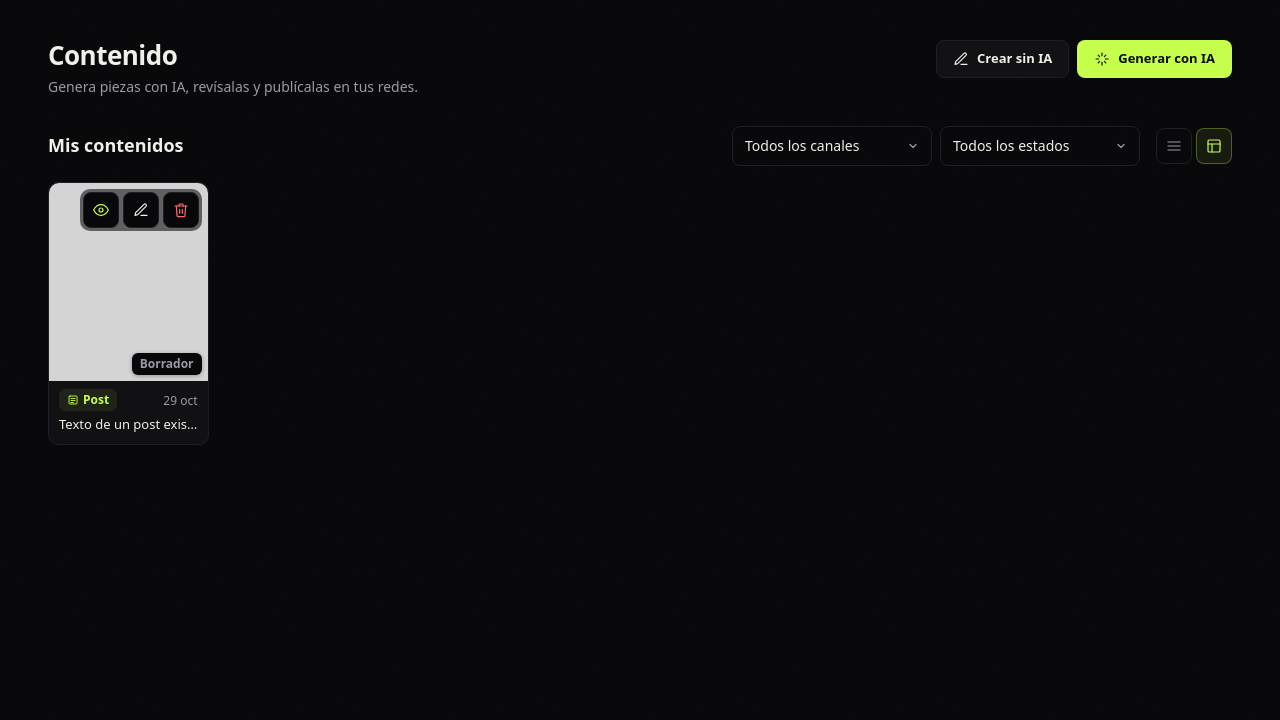
Scenario: Mis contenidos — lista › si el borrado falla lo avisa y conserva la tarjeta
Click the button named "Eliminar: Texto de un post existente" at (181, 210), box [163,192,199,228]
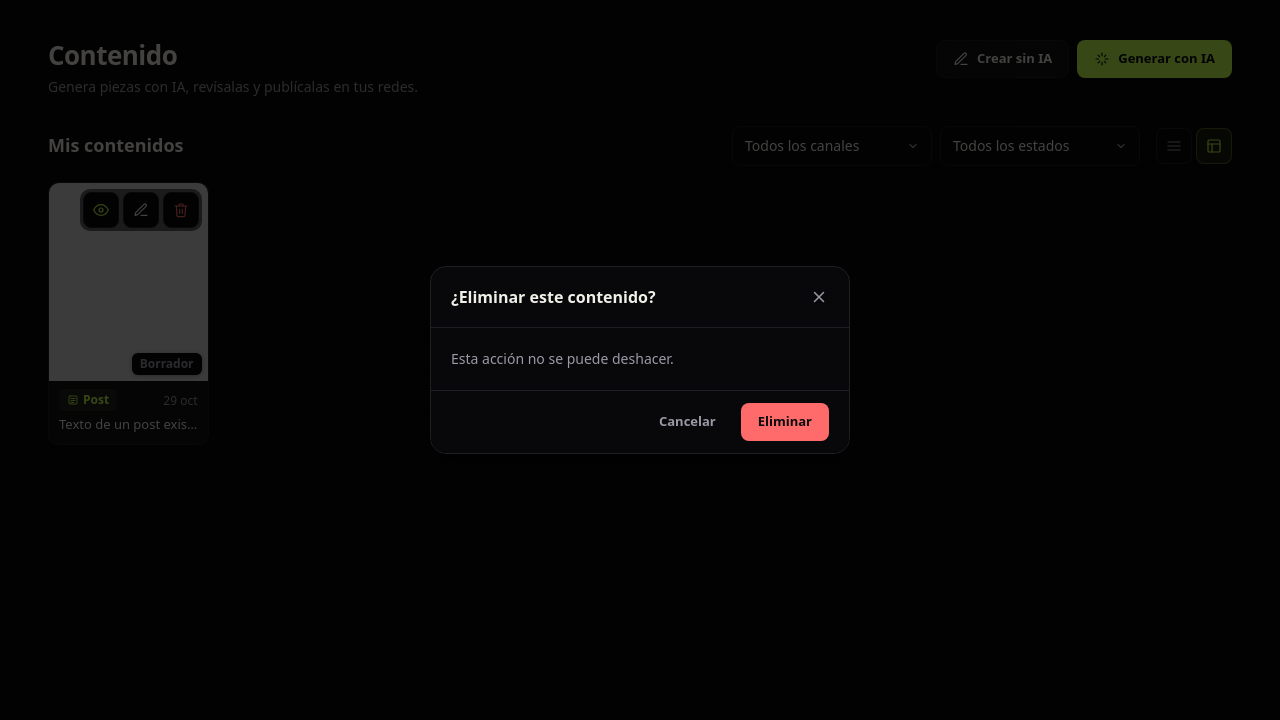
Click the button "Eliminar" at (785, 422), box [741,403,829,441]
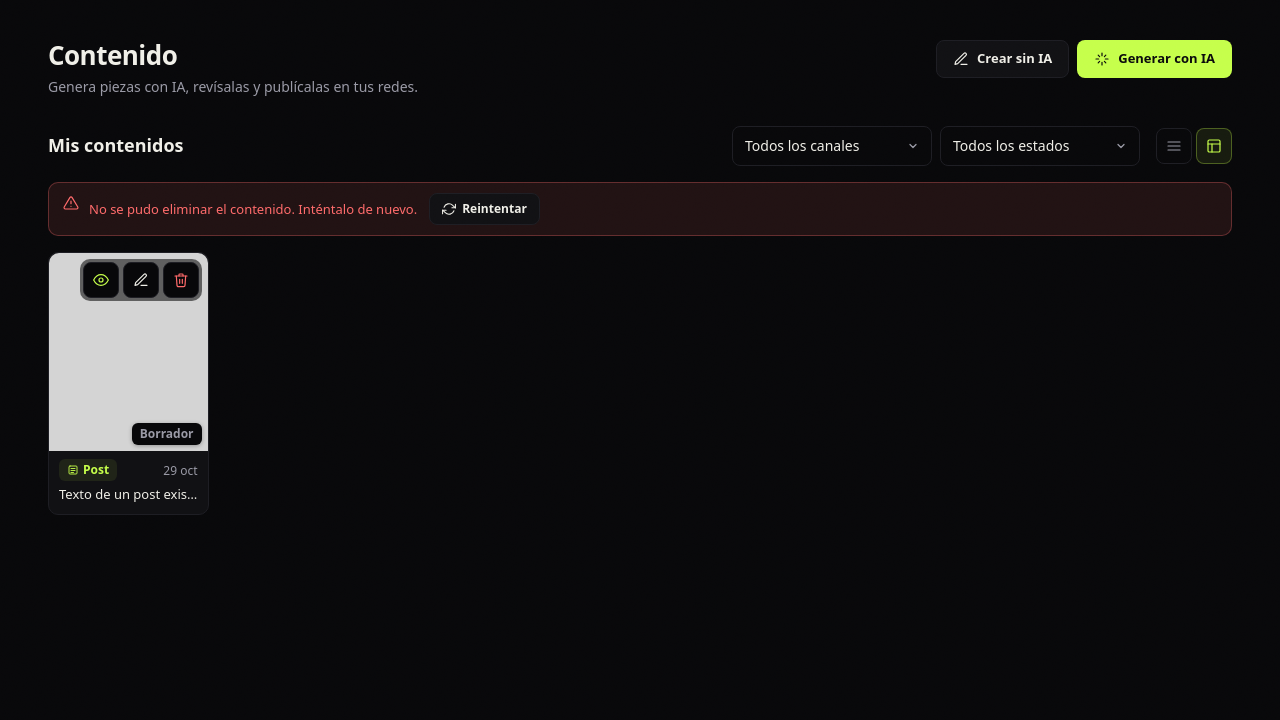
Expected: the text "No se pudo eliminar el contenido. Inténtalo de nuevo." is shown, [89,200,417,219]
